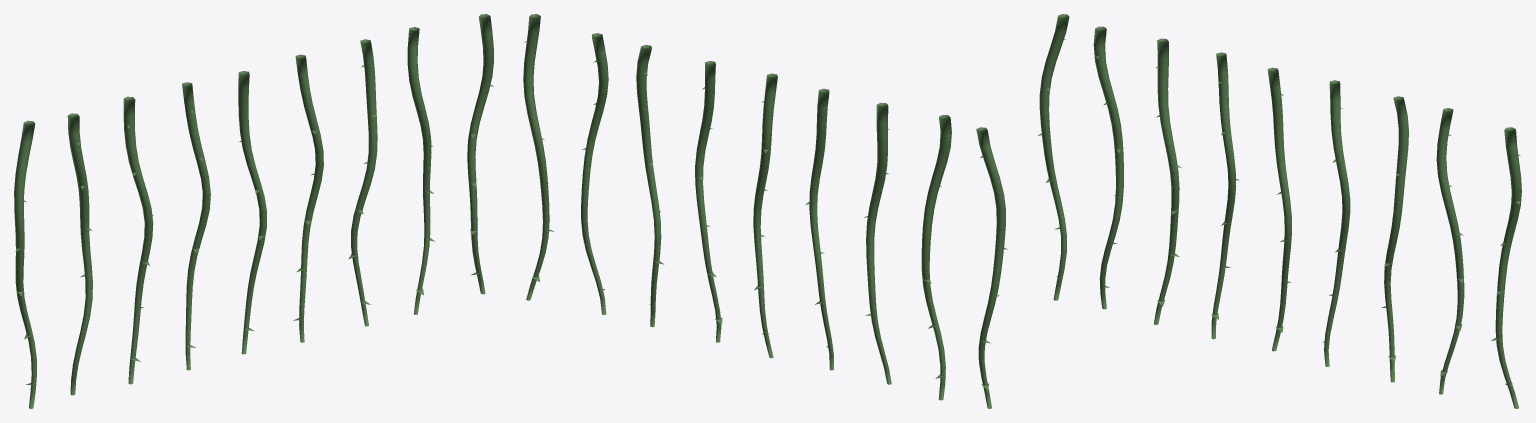
Rendered from SM_Vine_Curtain.fbx.
3 renders of one model, left to right at view 1: azimuth 30°, elevation 25°; view 2: azimuth 150°, elevation 25°; view 3: azimuth 330°, elevation 25°, orthographic.
Visible parts, largest first — view 1: SM_Vine_Curtain; view 2: SM_Vine_Curtain; view 3: SM_Vine_Curtain.
Part boxes in pixels (x1,y1,x2,y2): SM_Vine_Curtain: (14,14,493,408); SM_Vine_Curtain: (523,14,1007,408); SM_Vine_Curtain: (1038,14,1521,408).
Size of the model in its own units: 4.66 by 2.6 by 0.2127.
